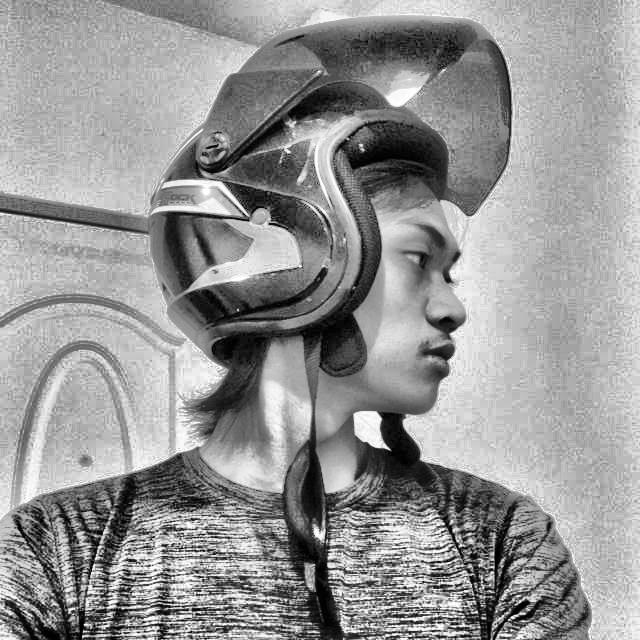Helmet: (141, 3, 521, 640)
